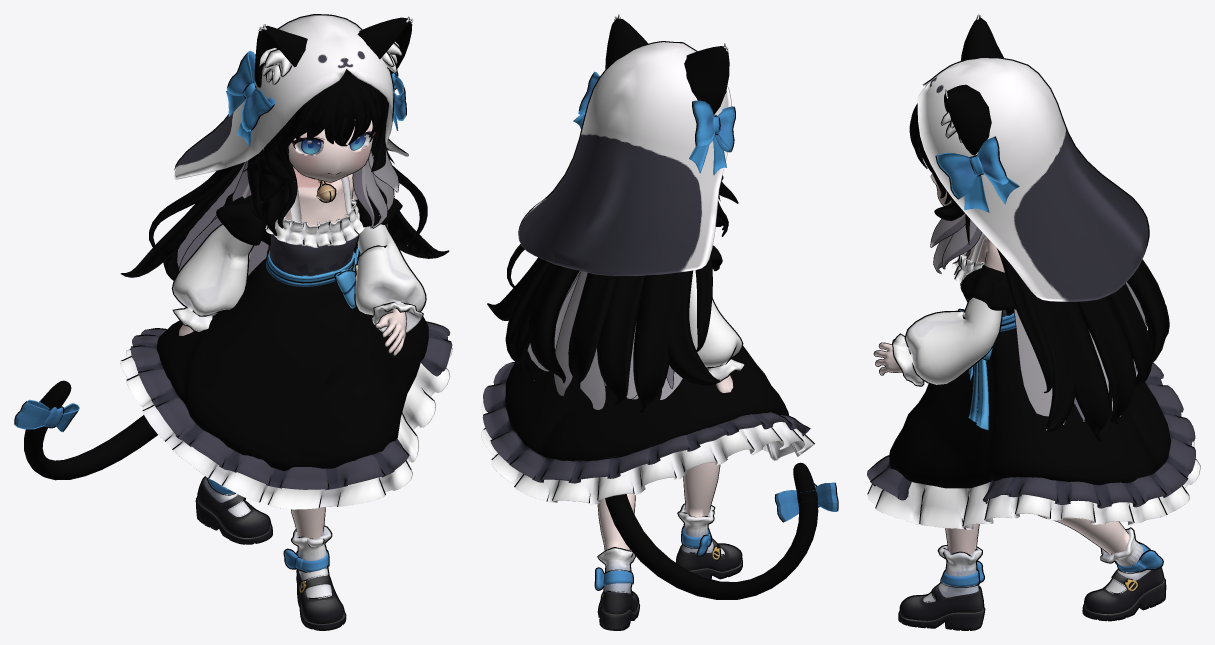
Rendered from ecy.obj.
3 renders of one model, left to right at view 1: azimuth 30°, elevation 25°; view 2: azimuth 150°, elevation 25°; view 3: azimuth 270°, elevation 25°, orthographic. The views are drawn at different scales.
Parts seen in each view (by area): view 1: _gltfNode_17, _gltfNode_16, _gltfNode_18, _gltfNode_14, _gltfNode_7, _gltfNode_20, _gltfNode_6, _gltfNode_5, _gltfNode_19, mesh_1, _gltfNode_15, mesh_4.003 (+1 smaller); view 2: _gltfNode_18, _gltfNode_17, _gltfNode_7, _gltfNode_16, _gltfNode_20, _gltfNode_19, _gltfNode_6, mesh_1, _gltfNode_14, _gltfNode_21; view 3: _gltfNode_18, _gltfNode_17, _gltfNode_16, _gltfNode_7, _gltfNode_20, _gltfNode_14, _gltfNode_19, _gltfNode_6, mesh_1, _gltfNode_15, _gltfNode_21, _gltfNode_5.
Part boxes in pixels (x1,y1,x2,y2): _gltfNode_17: [14, 177, 450, 507]; _gltfNode_16: [15, 180, 452, 509]; _gltfNode_18: [173, 15, 412, 179]; _gltfNode_14: [173, 176, 425, 335]; _gltfNode_7: [121, 69, 449, 280]; _gltfNode_20: [197, 477, 345, 629]; _gltfNode_6: [120, 148, 407, 275]; _gltfNode_5: [295, 72, 381, 146]; _gltfNode_19: [174, 14, 412, 169]; mesh_1: [179, 166, 406, 539]; _gltfNode_15: [171, 193, 426, 336]; mesh_4.003: [288, 120, 375, 181]; _gltfNode_18: [518, 14, 734, 276]; _gltfNode_17: [483, 346, 838, 599]; _gltfNode_7: [487, 175, 738, 413]; _gltfNode_16: [481, 362, 837, 522]; _gltfNode_20: [595, 504, 741, 629]; _gltfNode_19: [518, 14, 735, 238]; _gltfNode_6: [527, 271, 720, 409]; mesh_1: [598, 375, 733, 550]; _gltfNode_14: [689, 270, 744, 380]; _gltfNode_21: [594, 503, 742, 630]; _gltfNode_18: [917, 14, 1148, 301]; _gltfNode_17: [867, 255, 1196, 529]; _gltfNode_16: [867, 252, 1200, 529]; _gltfNode_7: [928, 159, 1169, 441]; _gltfNode_20: [899, 528, 1164, 629]; _gltfNode_14: [893, 232, 1006, 385]; _gltfNode_19: [923, 15, 1149, 256]; _gltfNode_6: [930, 213, 1145, 430]; mesh_1: [874, 237, 1129, 555]; _gltfNode_15: [892, 265, 1015, 386]; _gltfNode_21: [898, 527, 1166, 630]; _gltfNode_5: [909, 103, 931, 172].
Size of what is drawn, in the model's own units: 0.7932 by 1.1 by 0.5629.
